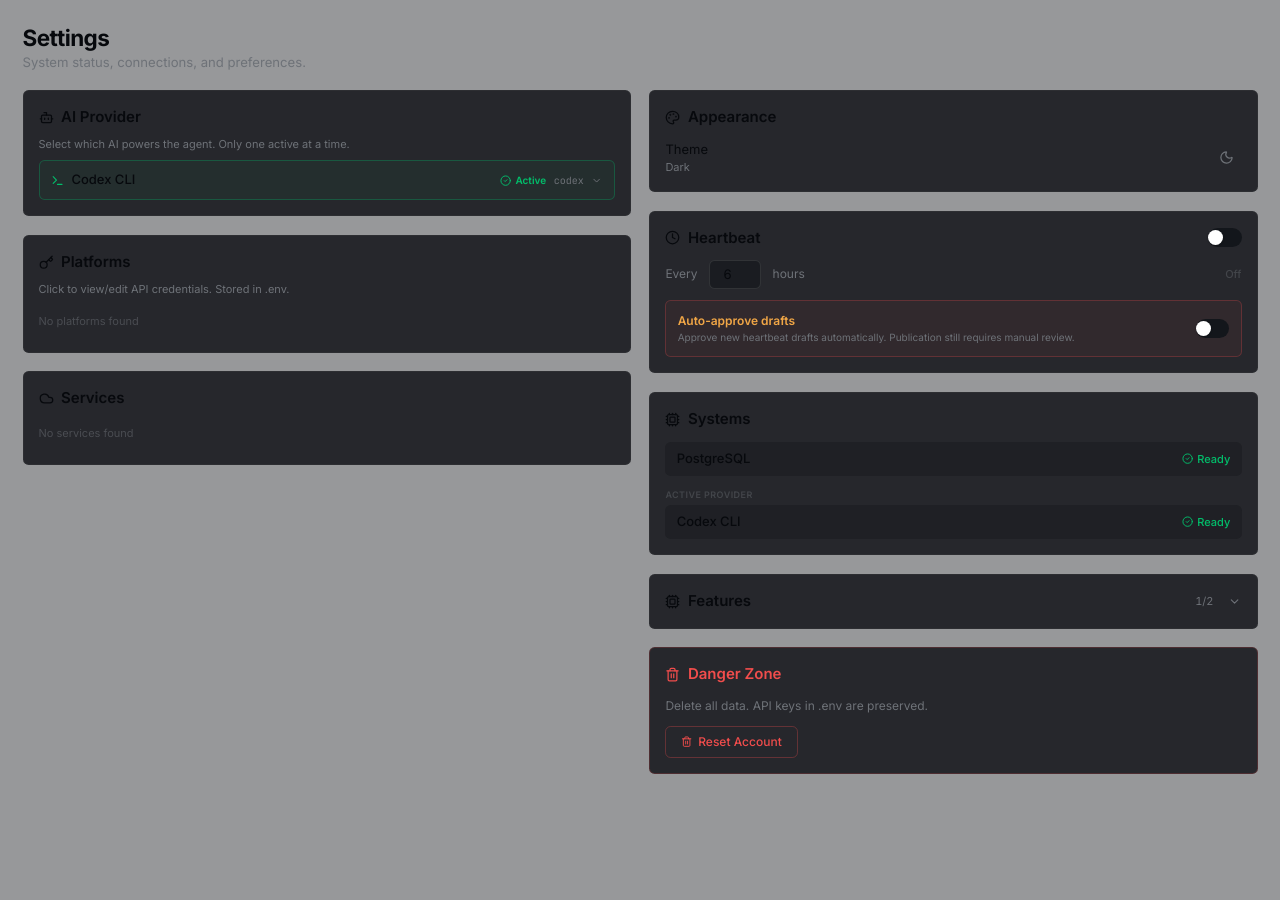
Test: SettingsPage › rolls back an optimistic heartbeat change and announces persistence failure
Click the switch named "Enable heartbeat" at (1225, 238), box top-left (1208, 228), bottom-right (1242, 247)
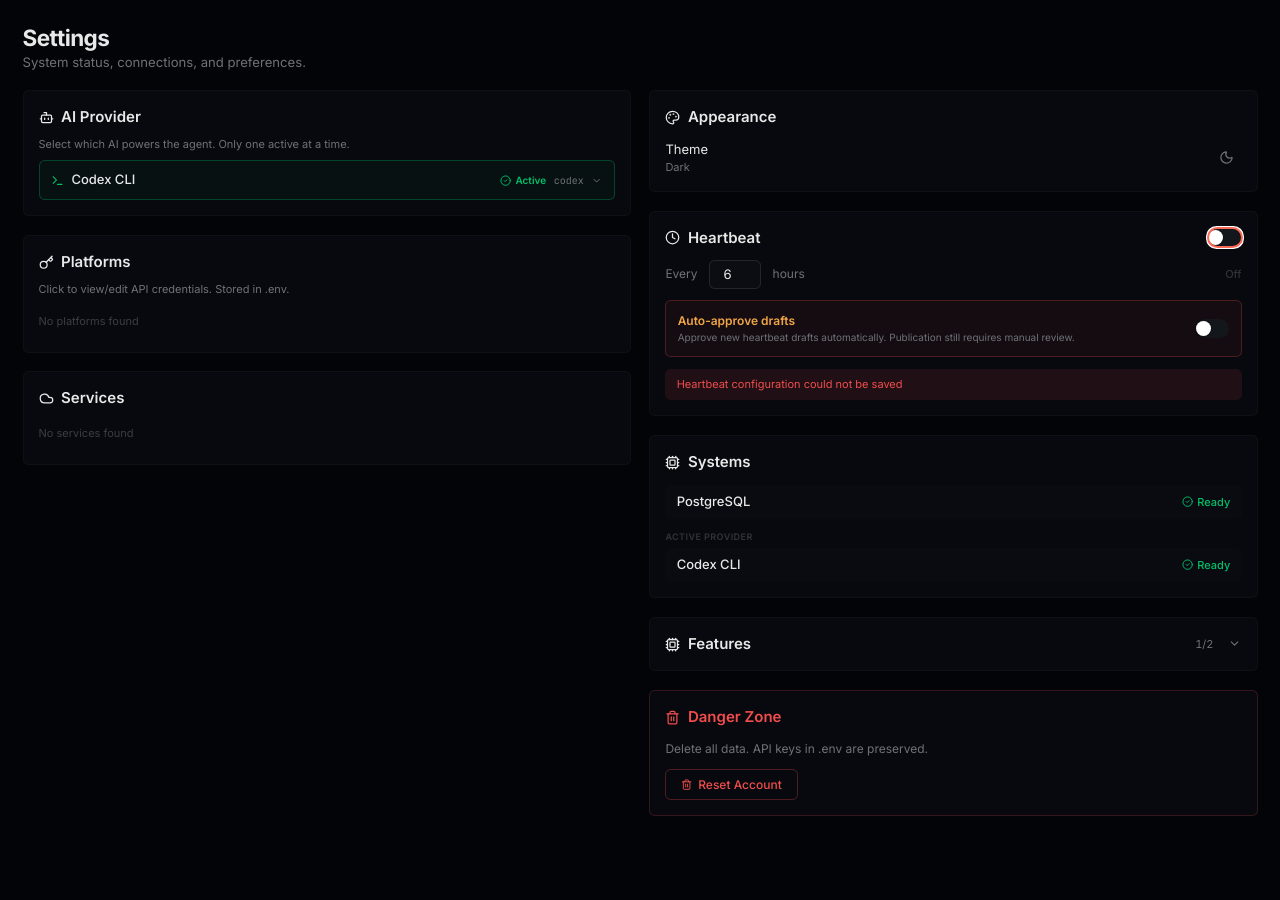
Expected: the text "Off" is shown, top-left (1225, 266), bottom-right (1242, 283)
Expected: the message reads "Heartbeat configuration could not be saved", top-left (677, 377), bottom-right (902, 391)
